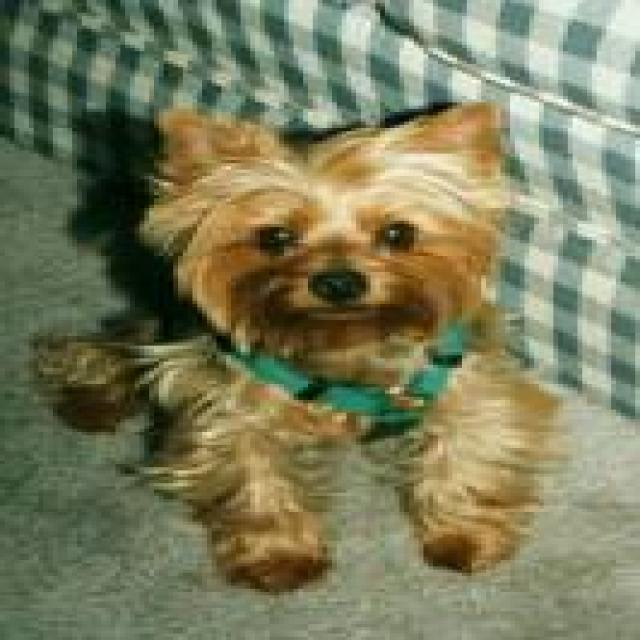dog-yorkshire_terrier: (29, 93, 587, 602)
